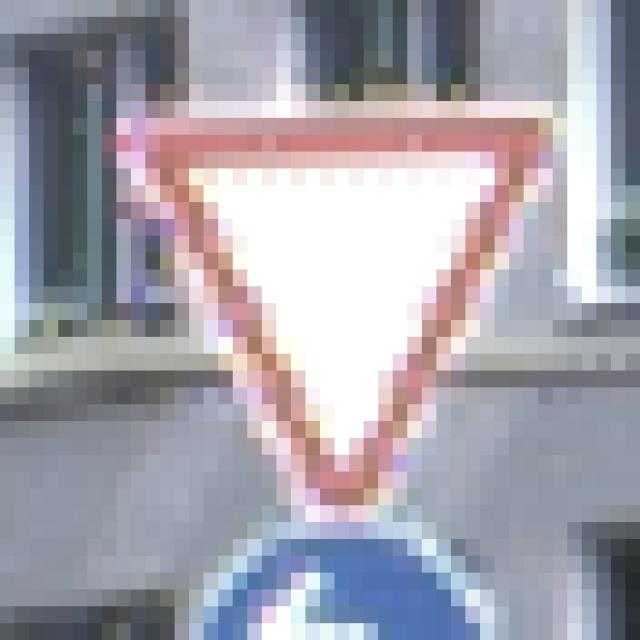Give Way: (89, 85, 569, 557)
